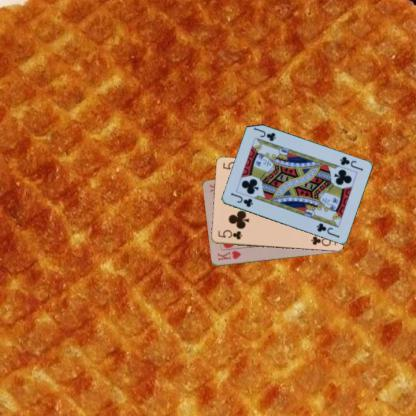5c: (216, 228, 243, 241)
Jc: (228, 190, 254, 209), (337, 154, 364, 172)
Kh: (215, 248, 242, 262)
